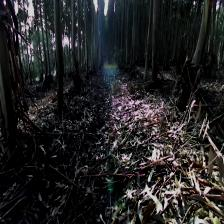trunk: (1, 0, 18, 138), (192, 0, 213, 66), (53, 3, 65, 106), (150, 2, 161, 81), (70, 0, 78, 87)
